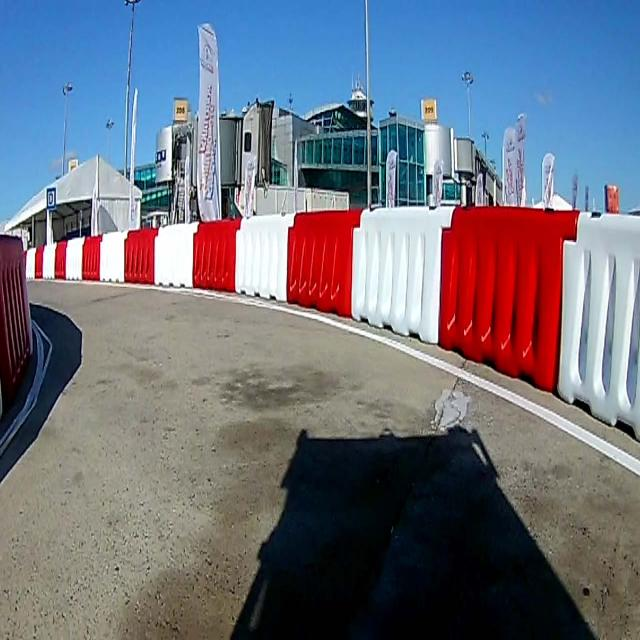durak: (46, 187, 56, 208)
